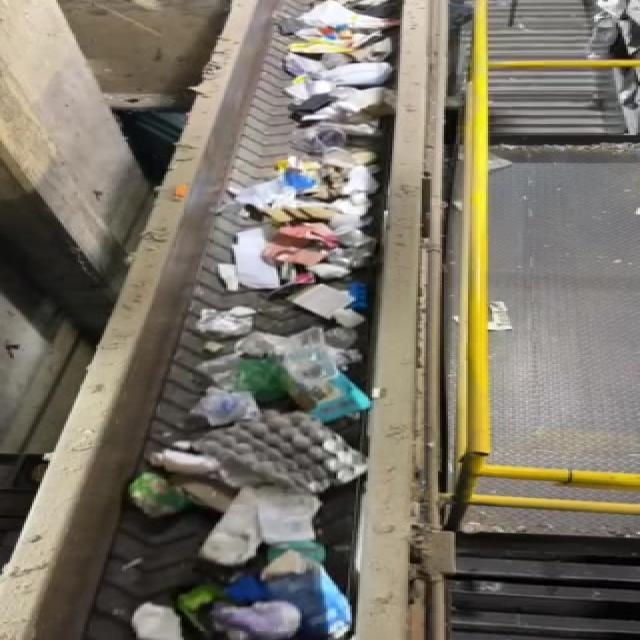paper: (125, 599, 188, 640)
pp: (210, 480, 327, 561), (275, 334, 379, 414), (100, 462, 193, 534), (175, 364, 262, 425)
ps: (192, 412, 395, 498), (250, 562, 359, 640)
